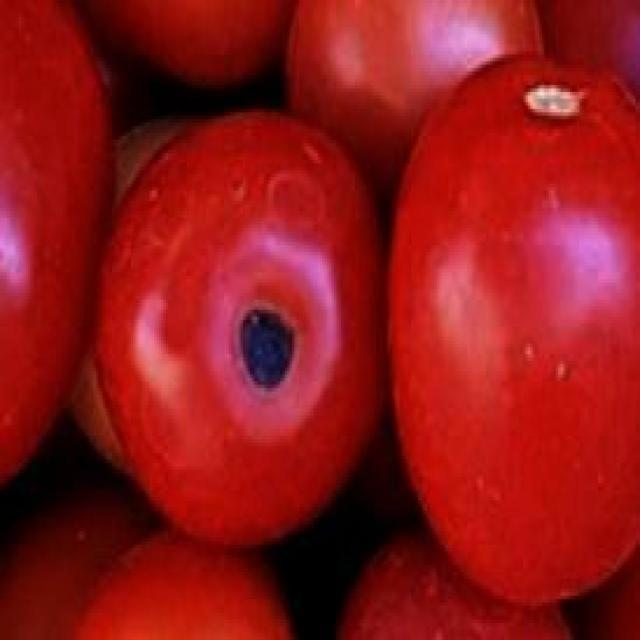Blossom End Rot Fruit: (151, 197, 202, 262)
